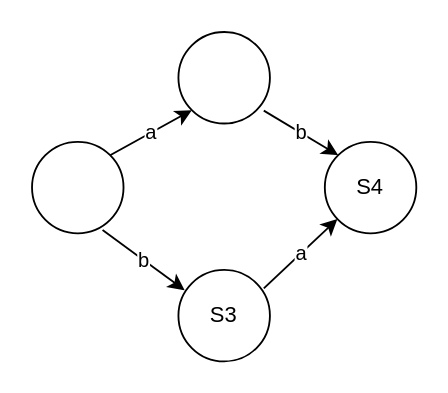
This 448x393 diagram has some shape labels left out. Each missing label, with the box of its shape:
S1: (30, 140, 124, 233)
S2: (177, 30, 270, 124)
